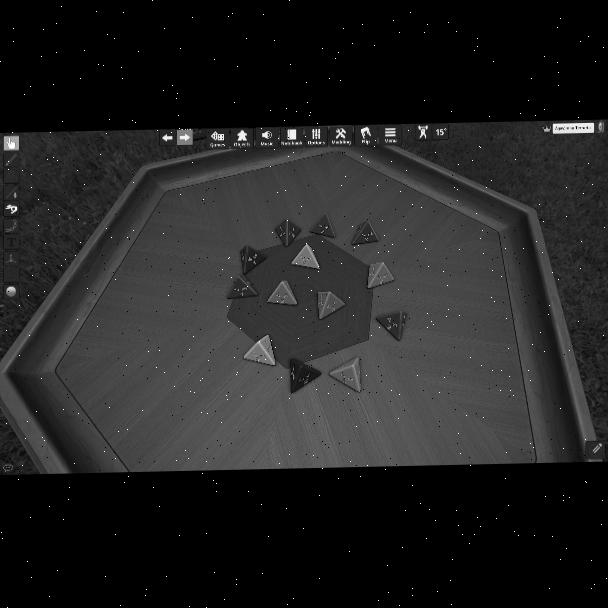d4: (329, 357, 361, 393), (290, 358, 320, 393), (244, 335, 276, 366), (316, 290, 344, 319), (376, 311, 404, 340), (239, 245, 265, 276), (267, 281, 297, 307), (291, 244, 319, 271), (276, 218, 302, 247), (227, 274, 257, 299), (367, 262, 393, 289), (310, 213, 336, 239), (352, 221, 378, 245)
